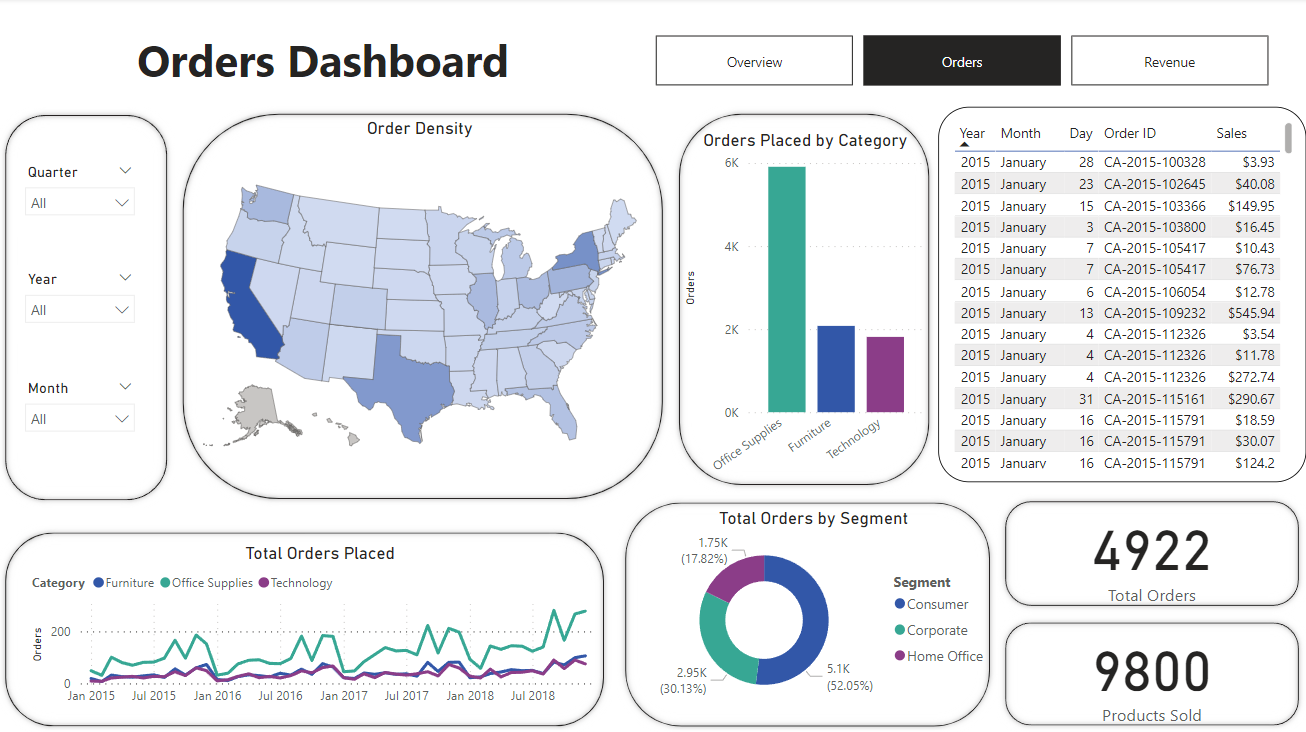

The page's visual inventory and layout, read from the dashboard file:
{"tool":"powerbi","page":{"name":"Orders","canvas":[1280,720],"ordinal":1},"visuals":[{"type":"shape","box":[977.4,483.9,303.1,118.3],"z":0},{"type":"shape","box":[0,514.1,601.9,205.7],"z":2000},{"type":"shape","box":[173.5,104.9,485.3,392.9],"z":3000},{"type":"shapeMap","title":"Order Density","fields":{"Category":["train.State"],"Value":["CountNonNull(train.Order ID)"]},"box":[173.5,117.2,479.9,367],"z":4000},{"type":"shape","box":[606.3,485.3,372.5,235.2],"z":5000},{"type":"donutChart","title":"Total Orders by Segment","fields":{"Y":["CountNonNull(train.Order ID)"],"Series":["train.Segment"],"Category":["train.Segment"]},"box":[618.5,498.9,360.2,199.8],"z":6000},{"type":"shape","box":[977.4,602.2,303.1,116.9],"z":7000},{"type":"card","fields":{"Values":["Count(train.Order ID)"]},"box":[977.4,485.3,303.1,118.3],"z":8000},{"type":"lineChart","title":"Total Orders Placed","fields":{"Y":["CountNonNull(train.Order ID)"],"Series":["train.Category"],"Category":["train.Order Date.Variation.Date Hierarchy.Year","train.Order Date.Variation.Date Hierarchy.Quarter","train.Order Date.Variation.Date Hierarchy.Month"]},"box":[28.8,533.3,573.1,167.3],"z":9000},{"type":"tableEx","fields":{"Values":["train.Order Date.Variation.Date Hierarchy.Year","train.Order Date.Variation.Date Hierarchy.Month","train.Order Date.Variation.Date Hierarchy.Day","train.Order ID","train.Sales"]},"box":[920.3,106,360.2,367],"z":10000},{"type":"card","fields":{"Values":["CountNonNull(train.Order ID)"]},"box":[977.4,603.6,303.1,116.9],"z":11000},{"type":"shape","box":[659.3,104.7,261,379.3],"z":12000},{"type":"columnChart","title":"Orders Placed by Category","fields":{"Y":["CountNonNull(train.Order ID)"],"Category":["train.Category"],"Series":["train.Category"]},"box":[667.5,127.8,246.1,357.5],"z":13000},{"type":"shape","box":[0,106,174,392.9],"z":13001},{"type":"slicer","fields":{"Values":["train.Order Date.Variation.Date Hierarchy.Year"]},"box":[17.5,261.9,127.5,76.8],"z":13002},{"type":"slicer","fields":{"Values":["train.Order Date.Variation.Date Hierarchy.Month"]},"box":[17.5,367.9,127.5,76.8],"z":13003},{"type":"slicer","fields":{"Values":["train.Order Date.Variation.Date Hierarchy.Quarter"]},"box":[17.5,156,127.5,76.8],"z":13004},{"type":"textbox","box":[0,26,637.5,71.3],"z":13005},{"type":"pageNavigator","box":[644.4,37,600.5,49.4],"z":13006}]}

Visuals, with their boxes in screenshot pixels (x1, y1, x2, y2), scaled from the page's 1280x720 canvas onto the 1306x732 screenshot:
shape: x1=997, y1=492, x2=1305, y2=612
shape: x1=0, y1=523, x2=614, y2=731
shape: x1=177, y1=107, x2=672, y2=506
"Order Density" shapeMap: x1=177, y1=119, x2=667, y2=492
shape: x1=619, y1=493, x2=999, y2=731
"Total Orders by Segment" donutChart: x1=631, y1=507, x2=999, y2=710
shape: x1=997, y1=612, x2=1305, y2=731
card - Count(train.Order ID): x1=997, y1=493, x2=1305, y2=614
"Total Orders Placed" lineChart: x1=29, y1=542, x2=614, y2=712
tableEx - train.Order Date.Variation.Date Hierarchy.Year x train.Order Date.Variation.Date Hierarchy.Month: x1=939, y1=108, x2=1305, y2=481
card - CountNonNull(train.Order ID): x1=997, y1=614, x2=1305, y2=731
shape: x1=673, y1=106, x2=939, y2=492
"Orders Placed by Category" columnChart: x1=681, y1=130, x2=932, y2=493
shape: x1=0, y1=108, x2=178, y2=507
slicer - train.Order Date.Variation.Date Hierarchy.Year: x1=18, y1=266, x2=148, y2=344
slicer - train.Order Date.Variation.Date Hierarchy.Month: x1=18, y1=374, x2=148, y2=452
slicer - train.Order Date.Variation.Date Hierarchy.Quarter: x1=18, y1=159, x2=148, y2=237
textbox: x1=0, y1=26, x2=650, y2=99
pageNavigator: x1=657, y1=38, x2=1270, y2=88
